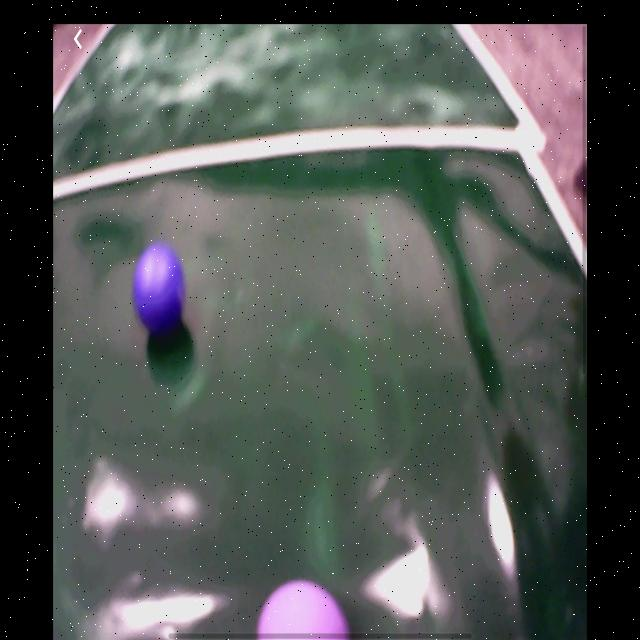ball: (257, 580, 351, 640), (134, 246, 187, 334)
